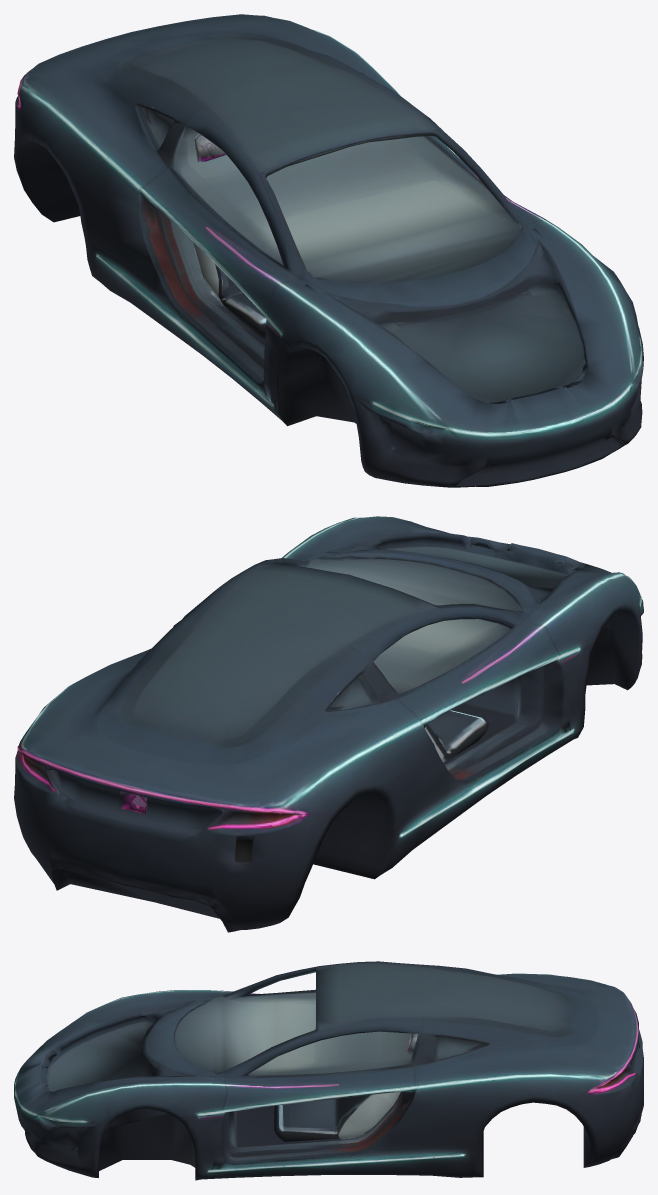
The model's file is original_glb.glb.
3 views of the same model, one above another, from view 1: azimuth 30°, elevation 25°; view 2: azimuth 150°, elevation 25°; view 3: azimuth 270°, elevation 25° (orthographic). The views are drawn at different scales.
Parts seen in each view (by area): view 1: body shell; view 2: body shell; view 3: body shell.
Part boxes in pixels (x1,y1,x2,y2): body shell: (14,14,643,487); body shell: (14,516,643,932); body shell: (14,961,643,1180).
Bounding box in the file's own units: 0.4199 × 0.252 × 0.998.
1 material, 1 textured.
